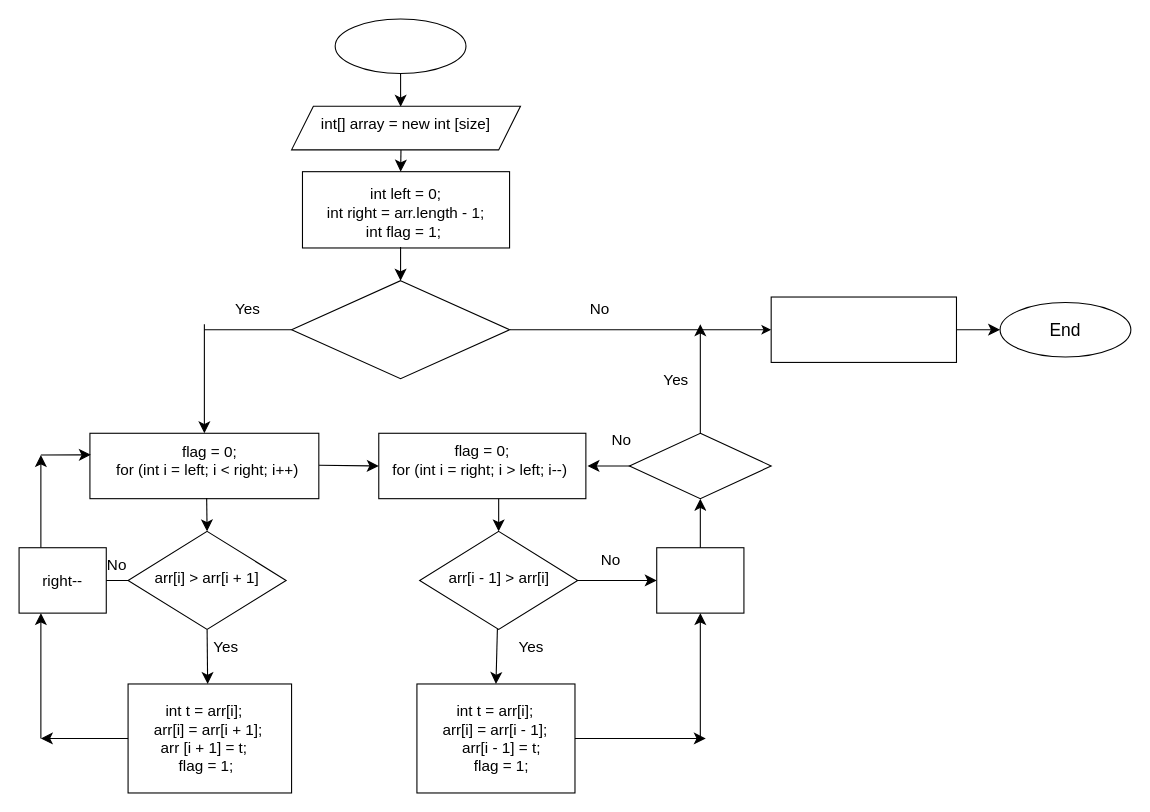
Some shapes in this 1150 by 812 pixel diagram are drawn without their labels. The shapes that lost their labels are listed below. From the top down, each one's centre as x and y in pixels, then its label:
At pixel 400 46: "Start".
At pixel 400 329: "(left < right) && (flag > 0)".
At pixel 863 329: "System.out.print (Arrays.toString(array))".
At pixel 699 465: "(flag == 0)".
At pixel 700 580: "left++".
